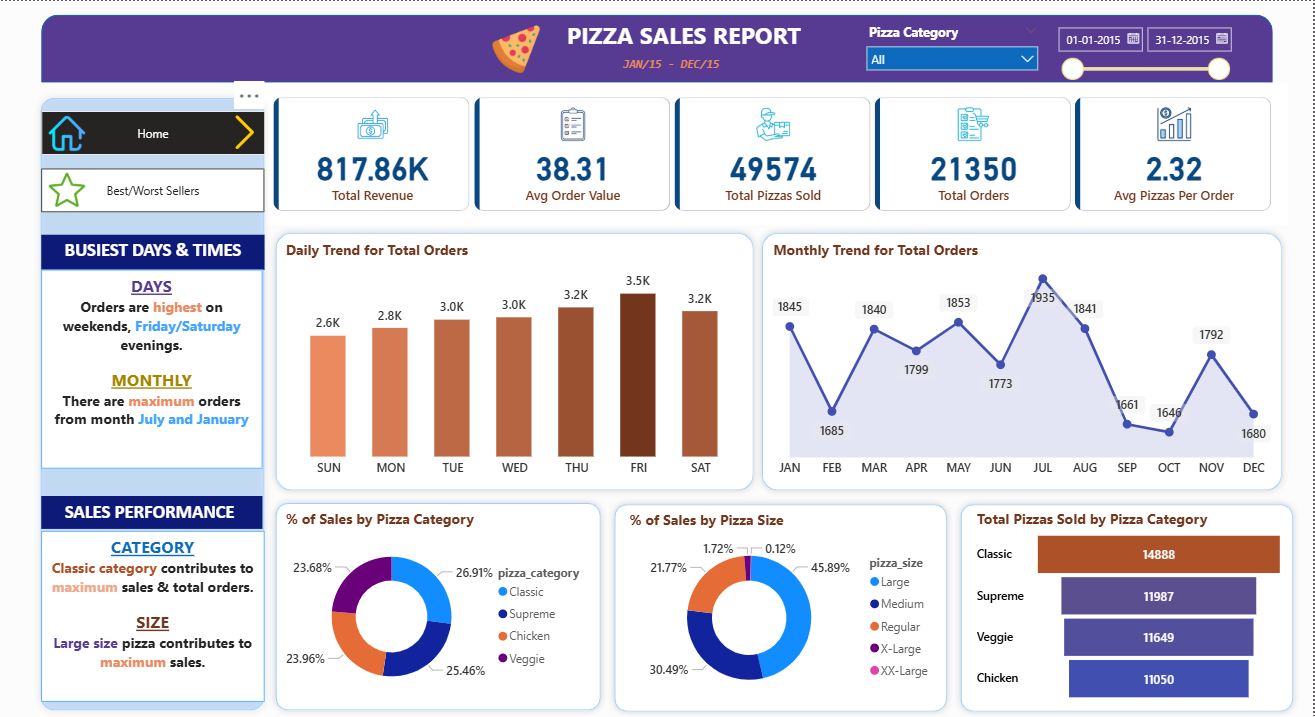

What the dashboard file says about the page in this screenshot:
{"tool":"powerbi","page":{"name":"Home","canvas":[1500,820],"ordinal":0},"visuals":[{"type":"cardVisual","fields":{"Data":["pizza_sales.Total Revenue","pizza_sales.Avg Order Value","pizza_sales.Total Pizzas Sold","pizza_sales.Total Orders","pizza_sales.Avg Pizzas Per Order"]},"box":[295.7,92.9,1177.1,164.3],"z":0},{"type":"shape","box":[38.6,102.9,271.4,715.7],"z":1000},{"type":"shape","box":[47.5,15,1407.5,77.5],"z":2000},{"type":"textbox","box":[643.3,15.6,280,60],"z":3000},{"type":"textbox","box":[693.3,56.7,148.3,36.7],"z":4000},{"type":"image","box":[561.1,24.4,56.7,62.2],"z":5000},{"type":"shape","box":[307.1,257.1,562,310],"z":6000},{"type":"columnChart","title":"Daily Trend for Total Orders","fields":{"Category":["pizza_sales.Order Day"],"Y":["pizza_sales.Total Orders"]},"box":[321.4,272.9,534.3,280],"z":7000},{"type":"shape","box":[862.9,257.1,610,310],"z":8000},{"type":"areaChart","title":"Monthly Trend for Total Orders","fields":{"Category":["pizza_sales.Order Month"],"Y":["pizza_sales.Total Orders"]},"box":[878.6,272.9,578.6,280],"z":9000},{"type":"shape","box":[307.1,565.7,387.1,252.9],"z":10000},{"type":"shape","box":[694.3,567.1,395.7,252.9],"z":11000},{"type":"shape","box":[1090,567.1,395.7,252.9],"z":12000},{"type":"donutChart","title":"% of Sales by Pizza Category","fields":{"Category":["pizza_sales.pizza_category"],"Y":["pizza_sales.Total Revenue"]},"box":[321.4,580,361.4,225.7],"z":13000},{"type":"donutChart","title":"% of Sales by Pizza Size","fields":{"Category":["pizza_sales.pizza_size"],"Y":["pizza_sales.Total Revenue"]},"box":[714.3,581.4,364.3,225.7],"z":14000},{"type":"funnel","title":"Total Pizzas Sold by Pizza Category","fields":{"Category":["pizza_sales.pizza_category"],"Y":["pizza_sales.Total Pizzas Sold"]},"box":[1111.4,580,361.4,225.7],"z":15000},{"type":"textbox","box":[47.5,267.5,255,40],"z":16000},{"type":"textbox","box":[47.5,307.5,252.5,227.5],"z":17000},{"type":"textbox","box":[47.5,605,255,195],"z":18000},{"type":"textbox","box":[47.5,565,252.5,37.5],"z":19000},{"type":"slicer","fields":{"Values":["pizza_sales.pizza_category"]},"box":[980,20,216.7,70],"z":20000},{"type":"slicer","fields":{"Values":["pizza_sales.order_date"]},"box":[1196.7,20,216.7,76.7],"z":21000},{"type":"pageNavigator","box":[47.1,125.7,255.7,50],"z":22000},{"type":"pageNavigator","box":[47.1,191.4,255.7,50],"z":22001},{"type":"image","box":[255,130,47.5,40],"z":22002},{"type":"image","box":[55.7,125.7,41.4,51.4],"z":22003},{"type":"image","box":[56.2,191.2,41.2,48.8],"z":22004}]}

Visuals, with their boxes in screenshot pixels (x1, y1, x2, y2), scaled from the page's 1500x820 canvas onto the 1315x717 screenshot:
cardVisual - pizza_sales.Total Revenue x pizza_sales.Avg Order Value: BBox(259, 81, 1291, 225)
shape: BBox(34, 90, 272, 716)
shape: BBox(42, 13, 1276, 81)
textbox: BBox(564, 14, 809, 66)
textbox: BBox(608, 50, 738, 82)
image: BBox(492, 21, 542, 76)
shape: BBox(269, 225, 762, 496)
"Daily Trend for Total Orders" columnChart: BBox(282, 239, 750, 483)
shape: BBox(756, 225, 1291, 496)
"Monthly Trend for Total Orders" areaChart: BBox(770, 239, 1277, 483)
shape: BBox(269, 495, 609, 716)
shape: BBox(609, 496, 956, 716)
shape: BBox(956, 496, 1302, 716)
"% of Sales by Pizza Category" donutChart: BBox(282, 507, 599, 704)
"% of Sales by Pizza Size" donutChart: BBox(626, 508, 946, 706)
"Total Pizzas Sold by Pizza Category" funnel: BBox(974, 507, 1291, 704)
textbox: BBox(42, 234, 265, 269)
textbox: BBox(42, 269, 263, 468)
textbox: BBox(42, 529, 265, 700)
textbox: BBox(42, 494, 263, 527)
slicer - pizza_sales.pizza_category: BBox(859, 17, 1049, 79)
slicer - pizza_sales.order_date: BBox(1049, 17, 1239, 85)
pageNavigator: BBox(41, 110, 265, 154)
pageNavigator: BBox(41, 167, 265, 211)
image: BBox(224, 114, 265, 149)
image: BBox(49, 110, 85, 155)
image: BBox(49, 167, 85, 210)
